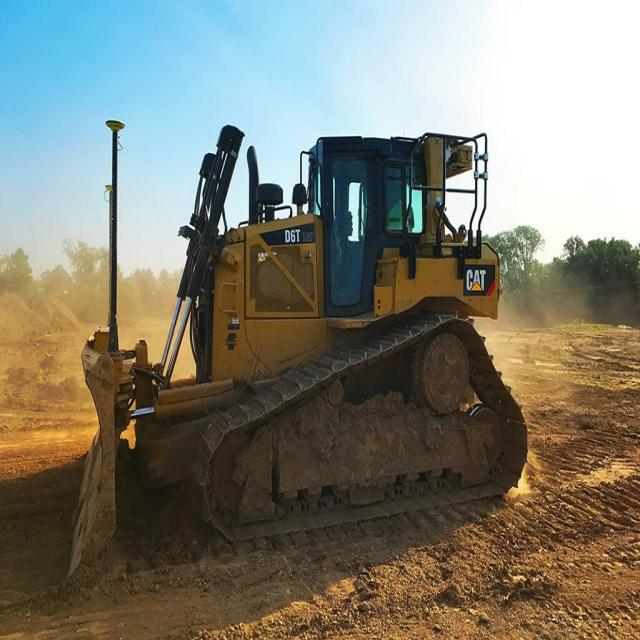buldozerpayloadergrader: (49, 76, 544, 606)
